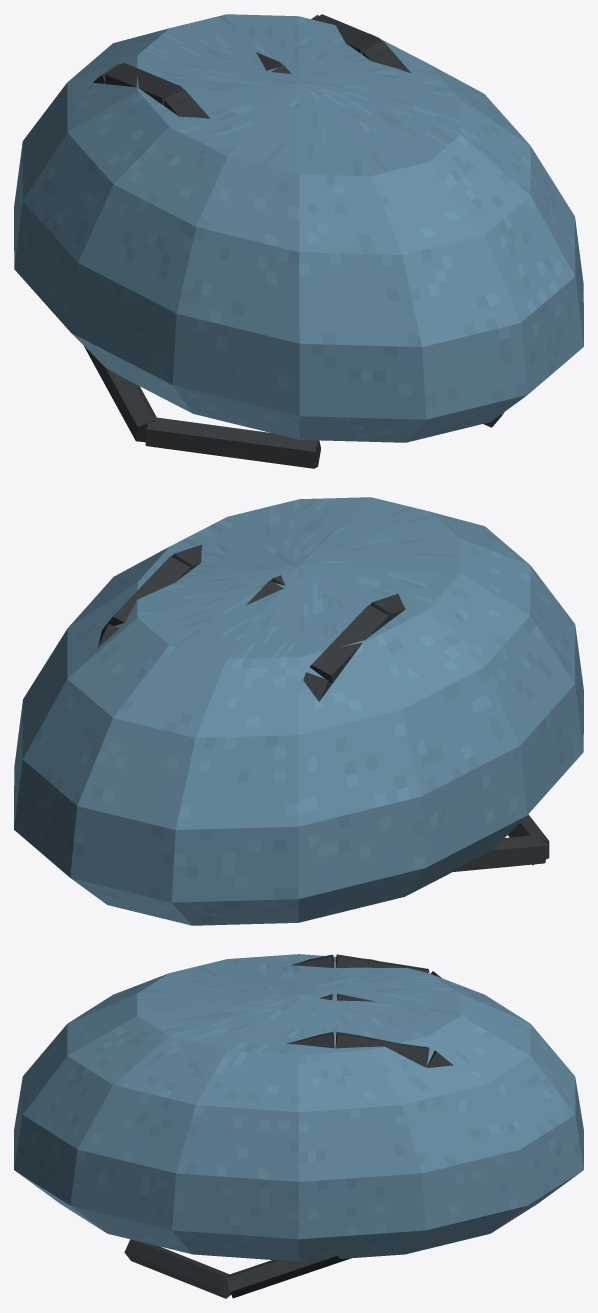
File: helmet_bike.glb
3 views of the same model, one above another, from view 1: azimuth 30°, elevation 25°; view 2: azimuth 150°, elevation 25°; view 3: azimuth 270°, elevation 25° (orthographic). The views are drawn at different scales.
Visible parts, largest first — view 1: block_tapered foam shell, block_chin strap 1, block_long ventilation groove 1 (×2), block_chin strap 0, block_long ventilation groove 2 (×2); view 2: block_tapered foam shell, block_long ventilation groove 1 (×2), block_chin strap 0, block_chin strap 1; view 3: block_tapered foam shell, block_chin strap 1, block_chin strap 0, block_long ventilation groove 1 (×2).
Part boxes in pixels (bbox=[...]): block_tapered foam shell: bbox=[14, 14, 583, 442]; block_chin strap 1: bbox=[145, 417, 320, 468]; block_long ventilation groove 1 (×2): bbox=[105, 14, 381, 104]; block_chin strap 0: bbox=[84, 346, 156, 442]; block_long ventilation groove 2 (×2): bbox=[163, 41, 410, 118]; block_tapered foam shell: bbox=[14, 497, 583, 925]; block_long ventilation groove 1 (×2): bbox=[104, 556, 389, 683]; block_chin strap 0: bbox=[450, 835, 548, 872]; block_chin strap 1: bbox=[508, 814, 549, 865]; block_tapered foam shell: bbox=[14, 954, 583, 1261]; block_chin strap 1: bbox=[124, 1239, 231, 1298]; block_chin strap 0: bbox=[226, 1256, 350, 1298]; block_long ventilation groove 1 (×2): bbox=[335, 954, 429, 1067].
Bounding box in the file's own units: 0.1924 × 0.1174 × 0.26.
Materials: 1 (1 with a texture image).
